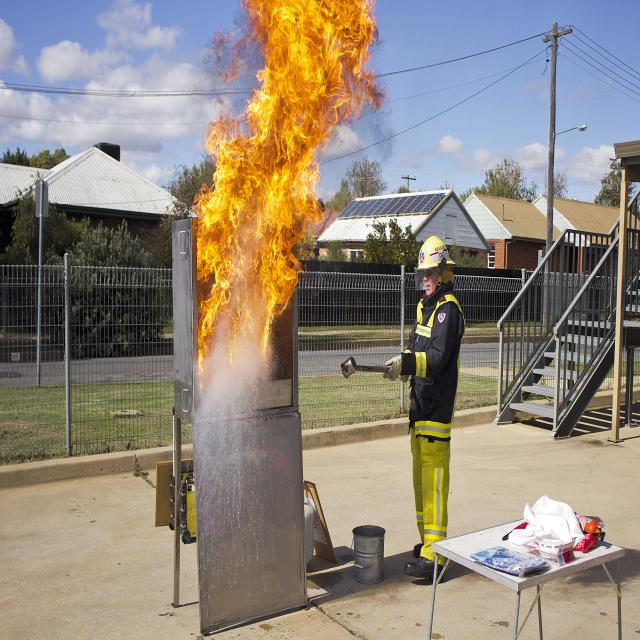fire: (194, 0, 386, 394)
